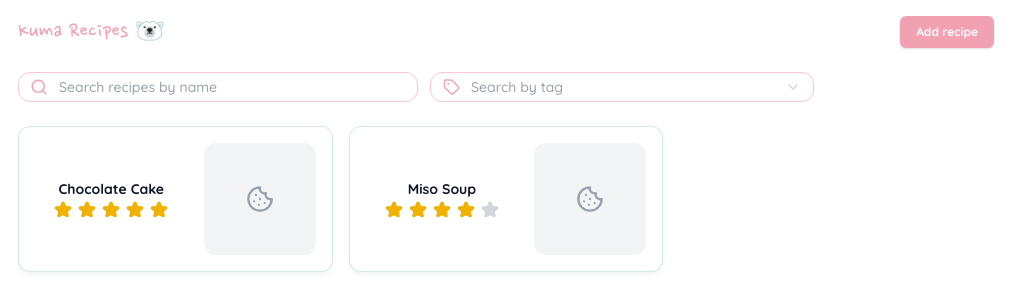
Test: App recipe search › clears the search input and restores filtered recipes
The width and height of the screenshot is (1011, 290).
Type "cake" into the search field with placeholder "Search recipes by name".
click(218, 87); type("cake")  # box [18,72,418,102]
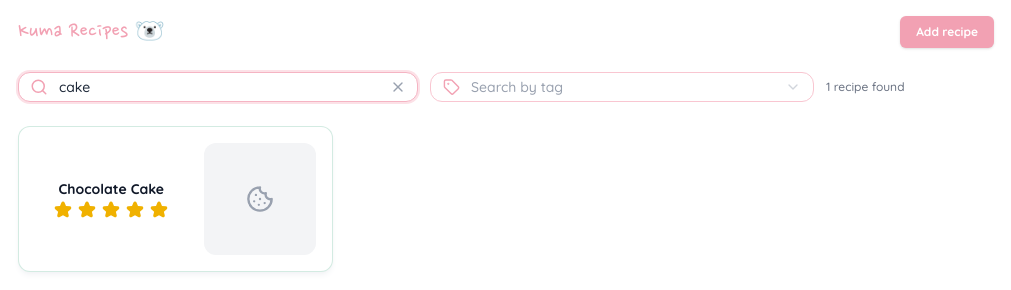
Expected: the text "Chocolate Cake" is shown, [58,180,164,198]
Expected: the link "Miso Soup" is gone
Click the button named "clear search".
click(398, 87)  # box [390,79,406,95]
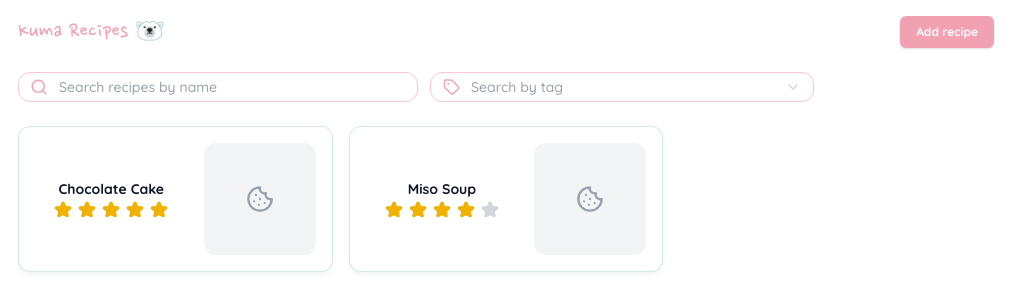
Expected: the text "Chocolate Cake" is shown, [58,180,164,198]
Expected: the search field with placeholder "Search recipes by name" is empty, [18,72,418,102]
Expected: the text "Miso Soup" is shown, [408,180,476,198]
